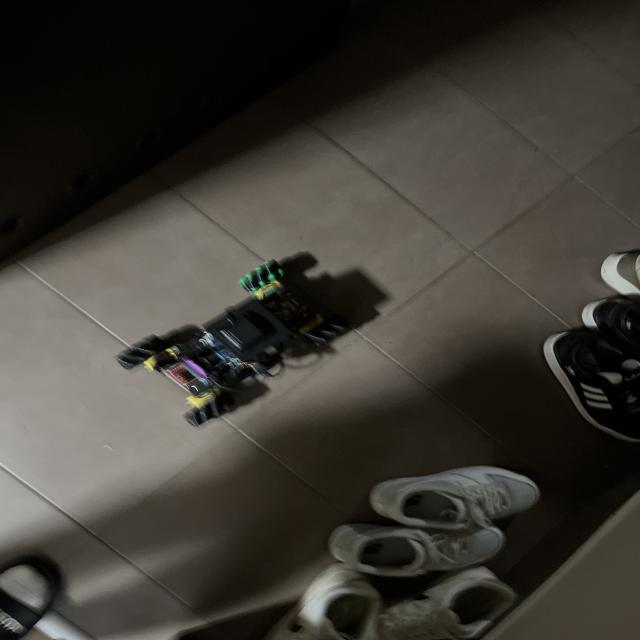robot: (116, 260, 349, 426)
